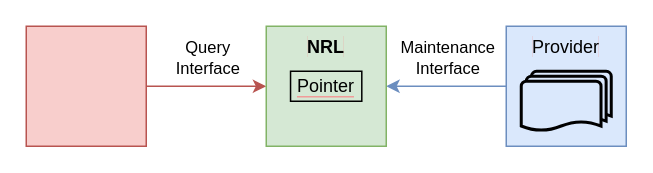
Some shapes in this 653 by 173 pixel diagram are drawn without their labels. The centre of each missing label's shape, as x and y in pixels:
"Consumer" belongs at (85,85).
"Record" belongs at (565,100).
